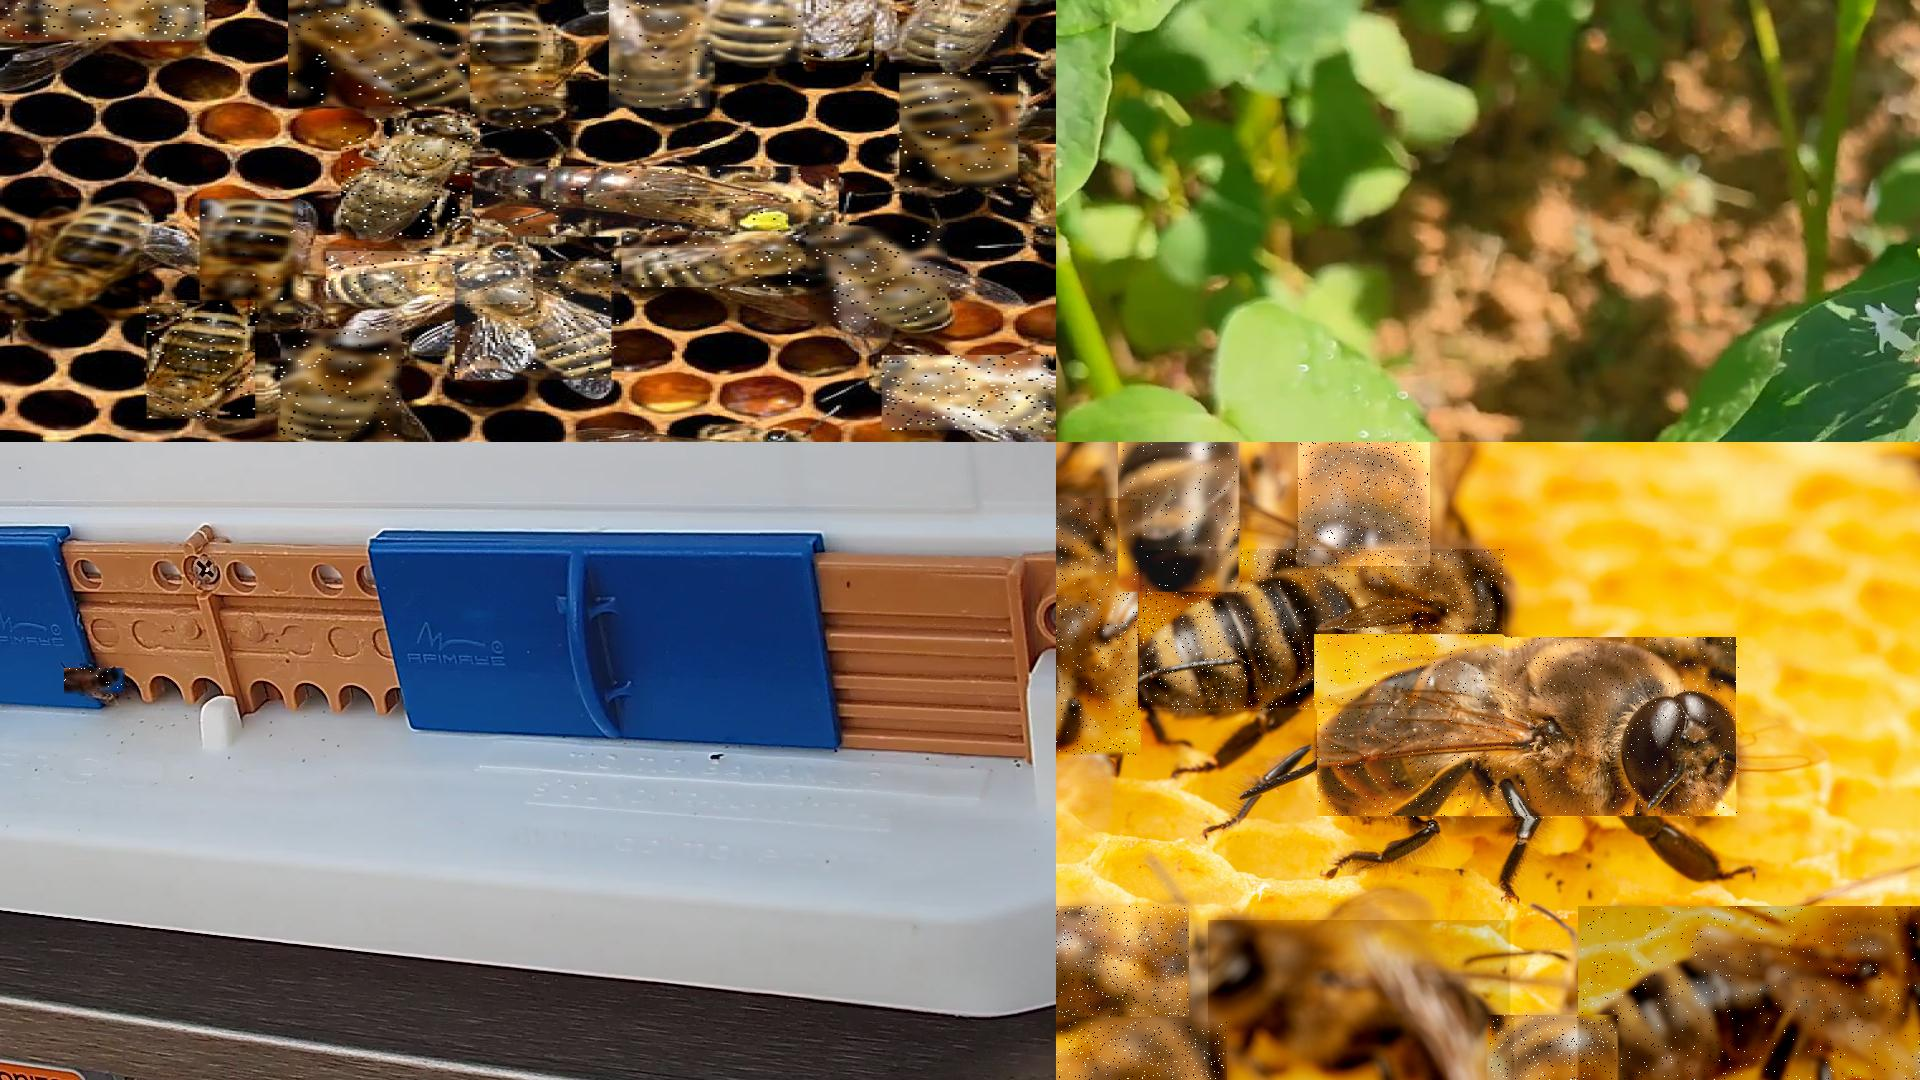bee: (1139, 550, 1507, 712), (1578, 906, 1919, 1079), (1208, 920, 1514, 1079), (1056, 498, 1143, 758), (287, 0, 477, 108), (458, 261, 624, 381), (1118, 442, 1242, 593), (0, 196, 142, 322), (342, 117, 476, 240), (1056, 906, 1191, 1019), (899, 74, 1021, 189), (808, 227, 951, 324), (281, 328, 405, 440), (149, 303, 268, 419), (884, 356, 1055, 434), (202, 200, 305, 324), (624, 236, 833, 293), (326, 251, 541, 305), (609, 0, 712, 109), (472, 4, 555, 129), (1056, 1022, 1229, 1079), (0, 0, 207, 44), (1490, 1015, 1621, 1079), (907, 0, 1018, 63), (704, 0, 808, 63), (804, 0, 877, 73), (65, 669, 128, 698)
drone: (1317, 638, 1741, 822), (1298, 442, 1432, 568)
queen: (473, 167, 843, 243)
